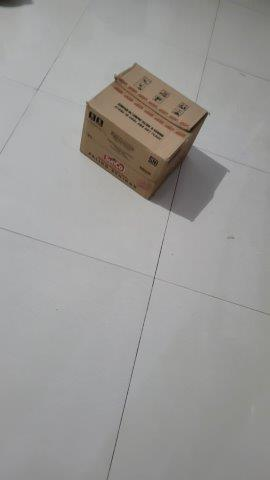kardus: (80, 64, 209, 200)
